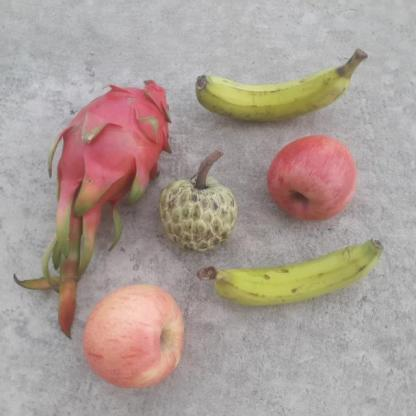annona: (158, 173, 237, 255)
apple: (81, 283, 187, 391), (266, 133, 361, 228)
banana: (195, 47, 372, 126), (214, 241, 392, 304)
pitaya: (51, 80, 172, 203)
